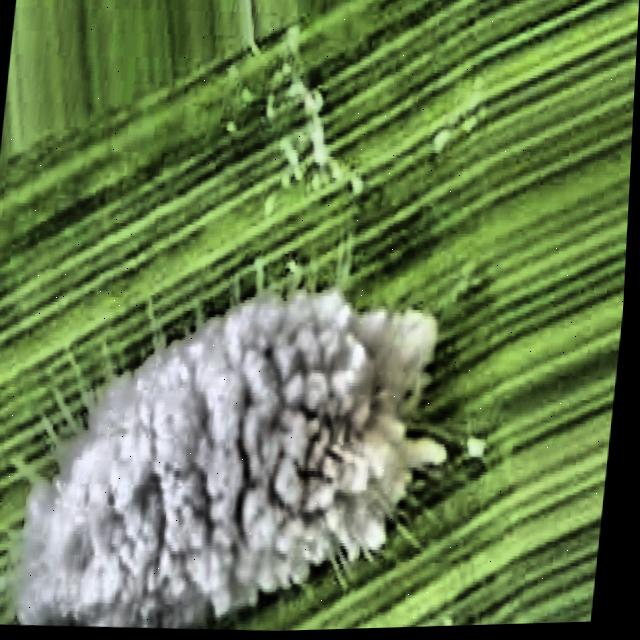Mealy-bug: (0, 206, 500, 640)
